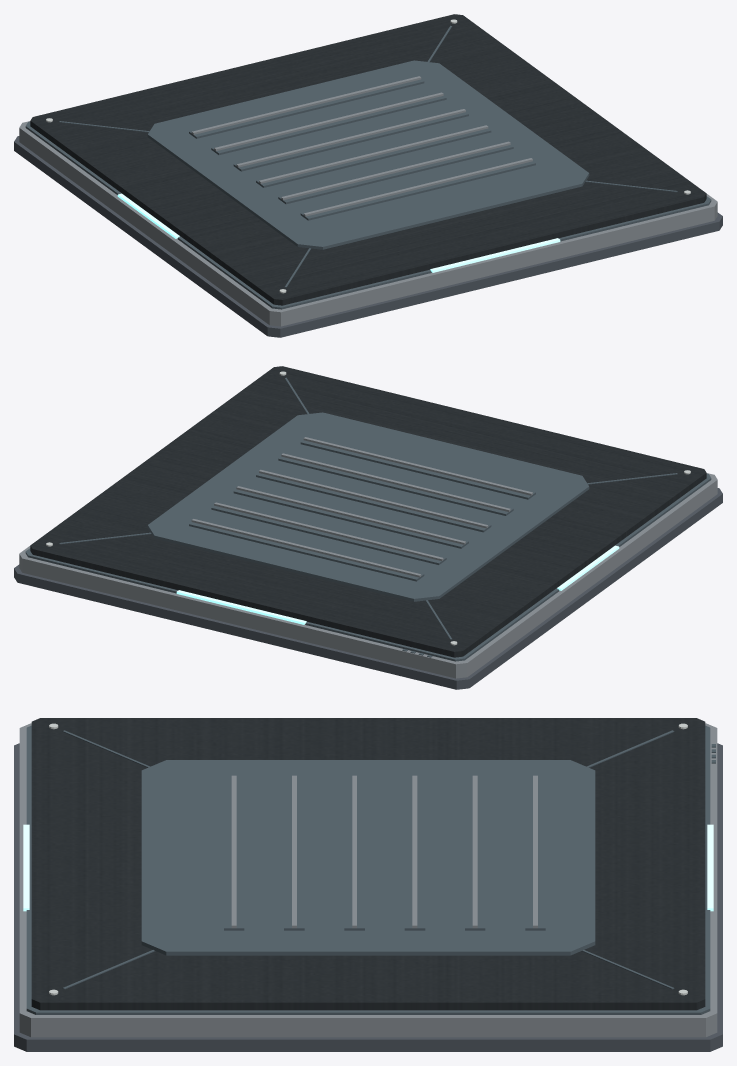
Rendered from m03-metal-service-vent.glb.
The picture shows the model from 3 angles, top to bottom: view 1: azimuth 30°, elevation 25°; view 2: azimuth 150°, elevation 25°; view 3: azimuth 270°, elevation 25°; orthographic projection. The views are drawn at different scales.
Visible parts, largest first — view 1: service-vent/003, service-vent/020, service-vent/001, service-vent/000, service-vent/002, service-vent/023, service-vent/031, service-vent/025, service-vent/021, service-vent/029, service-vent/027, service-vent/022 (+6 smaller); view 2: service-vent/003, service-vent/020, service-vent/001, service-vent/000, service-vent/002, service-vent/023, service-vent/025, service-vent/029, service-vent/031, service-vent/021, service-vent/027, service-vent/026 (+6 smaller); view 3: service-vent/003, service-vent/020, service-vent/001, service-vent/000, service-vent/002, service-vent/025, service-vent/023, service-vent/027, service-vent/031, service-vent/021, service-vent/029, service-vent/024 (+7 smaller).
Boxes of the visible parts, x1,y1,x2,y2 form: service-vent/003: (30,14,706,305); service-vent/020: (147,60,589,249); service-vent/001: (19,121,717,326); service-vent/000: (14,136,722,337); service-vent/002: (25,121,711,309); service-vent/023: (211,92,446,154); service-vent/031: (300,157,535,220); service-vent/025: (233,108,468,171); service-vent/021: (189,76,424,138); service-vent/029: (278,141,513,204); service-vent/027: (256,125,491,187); service-vent/022: (191,76,421,134); service-vent/003: (30,366,706,657); service-vent/020: (147,412,589,601); service-vent/001: (19,473,717,678); service-vent/000: (14,488,722,689); service-vent/002: (25,473,711,661); service-vent/023: (211,502,446,564); service-vent/025: (233,486,468,548); service-vent/029: (278,453,513,515); service-vent/031: (300,436,535,499); service-vent/021: (189,518,424,581); service-vent/027: (256,469,491,532); service-vent/026: (236,486,465,544); service-vent/003: (31,718,705,1010); service-vent/020: (141,760,595,955); service-vent/001: (19,723,717,1037); service-vent/000: (14,743,722,1051); service-vent/002: (26,725,710,1014); service-vent/025: (404,778,425,930); service-vent/023: (465,778,485,930); service-vent/027: (344,778,364,930); service-vent/031: (224,778,244,930); service-vent/021: (525,778,545,930); service-vent/029: (284,778,304,930); service-vent/024: (472,775,477,928).
Size of the model in its own units: 1 by 0.08 by 1.
Materials: 6 (1 with a texture image).
